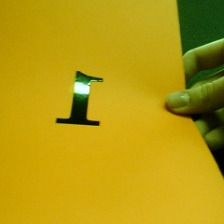orange1: (44, 62, 111, 133)
